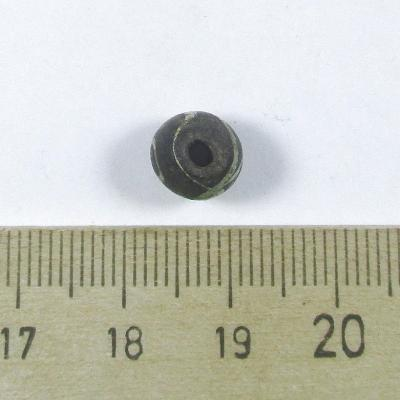archeology: (150, 112, 244, 202)
